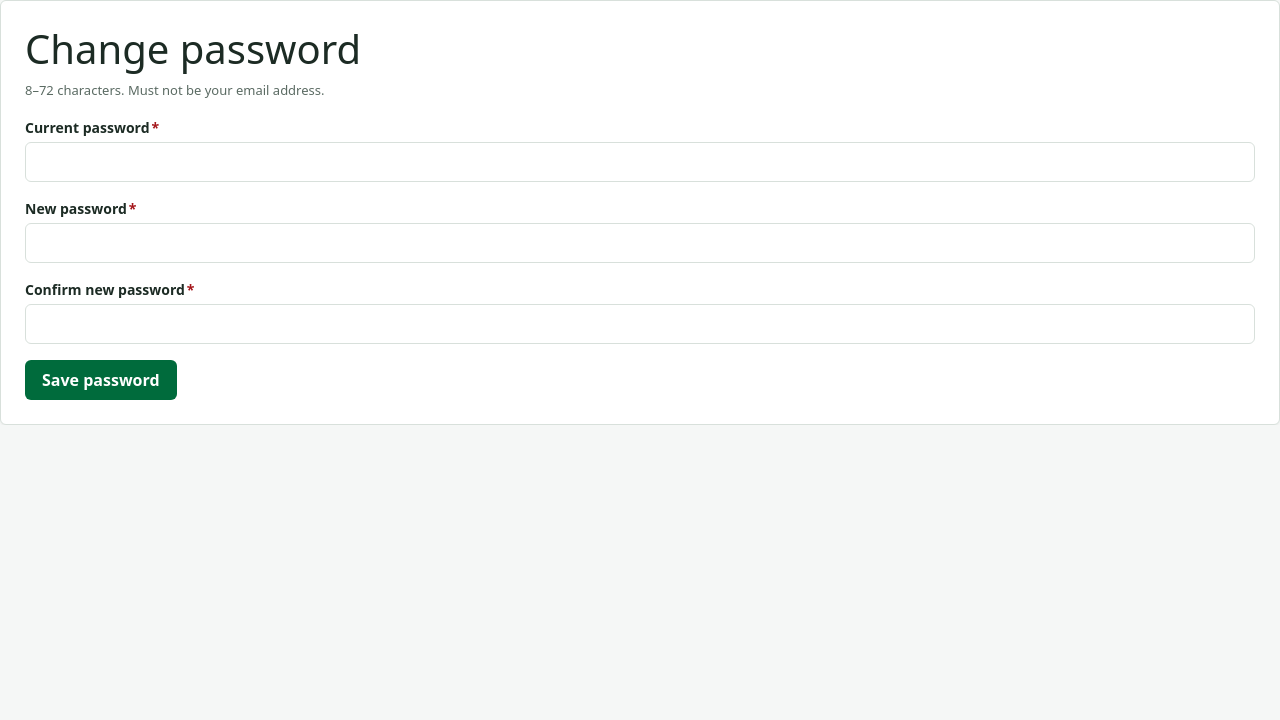
Test: UI-05 the rules, field by field › sends a valid change and confirms it
The width and height of the screenshot is (1280, 720).
In the password field labelled "Current password*": (640, 162) x1=25 y1=142 x2=1255 y2=182, type "Toktickit#2026"
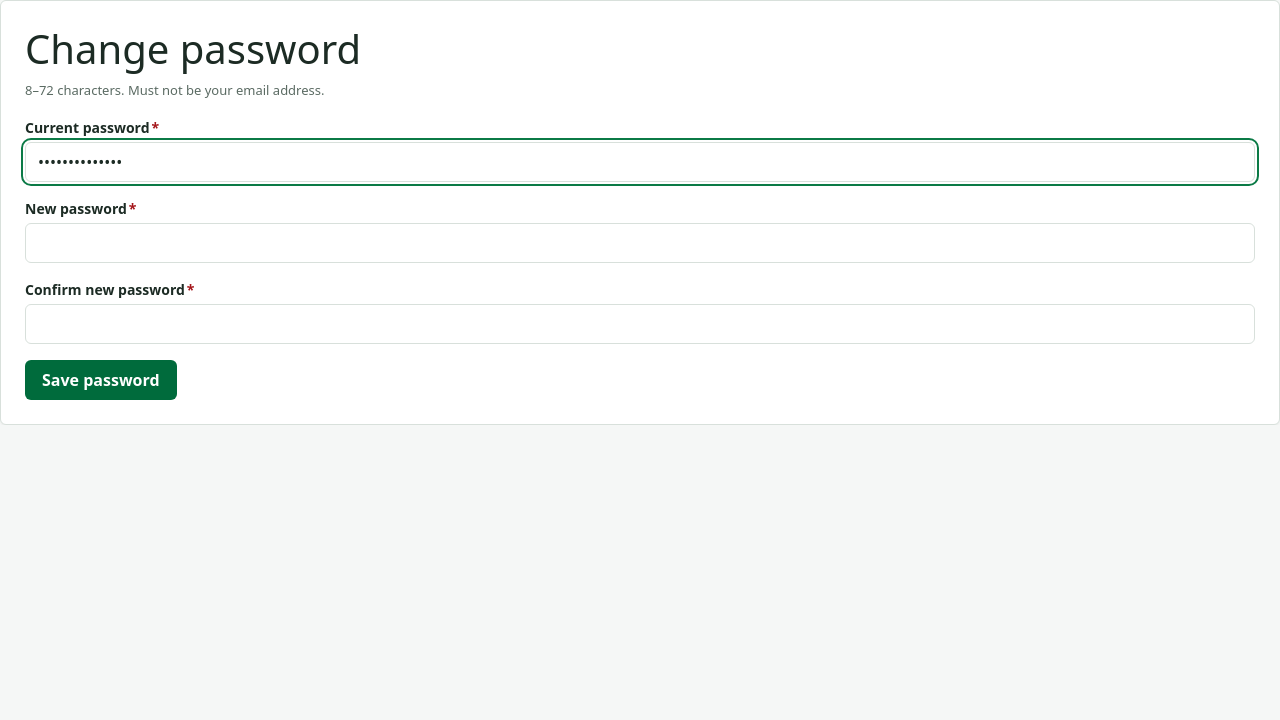
In the password field labelled "New password*": (640, 242) x1=25 y1=222 x2=1255 y2=262, type "Brand-new-horse-9"
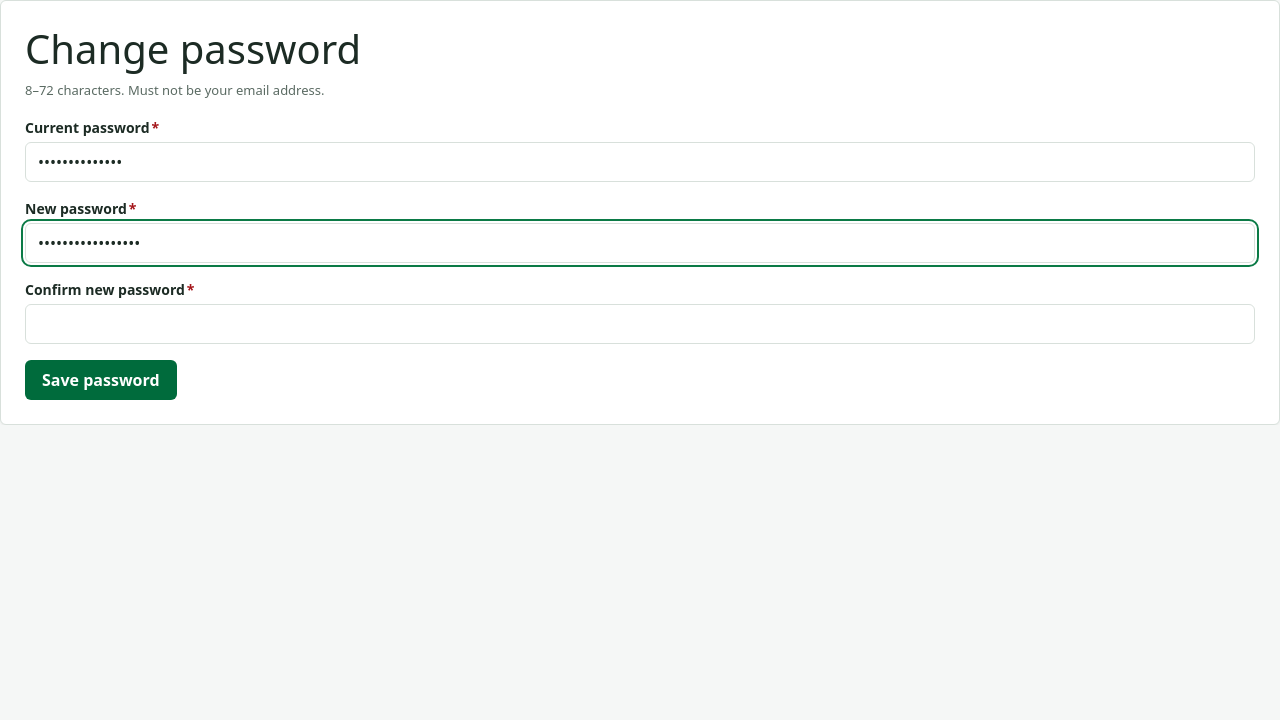
In the password field labelled "Confirm new password*": (640, 324) x1=25 y1=304 x2=1255 y2=344, type "Brand-new-horse-9"
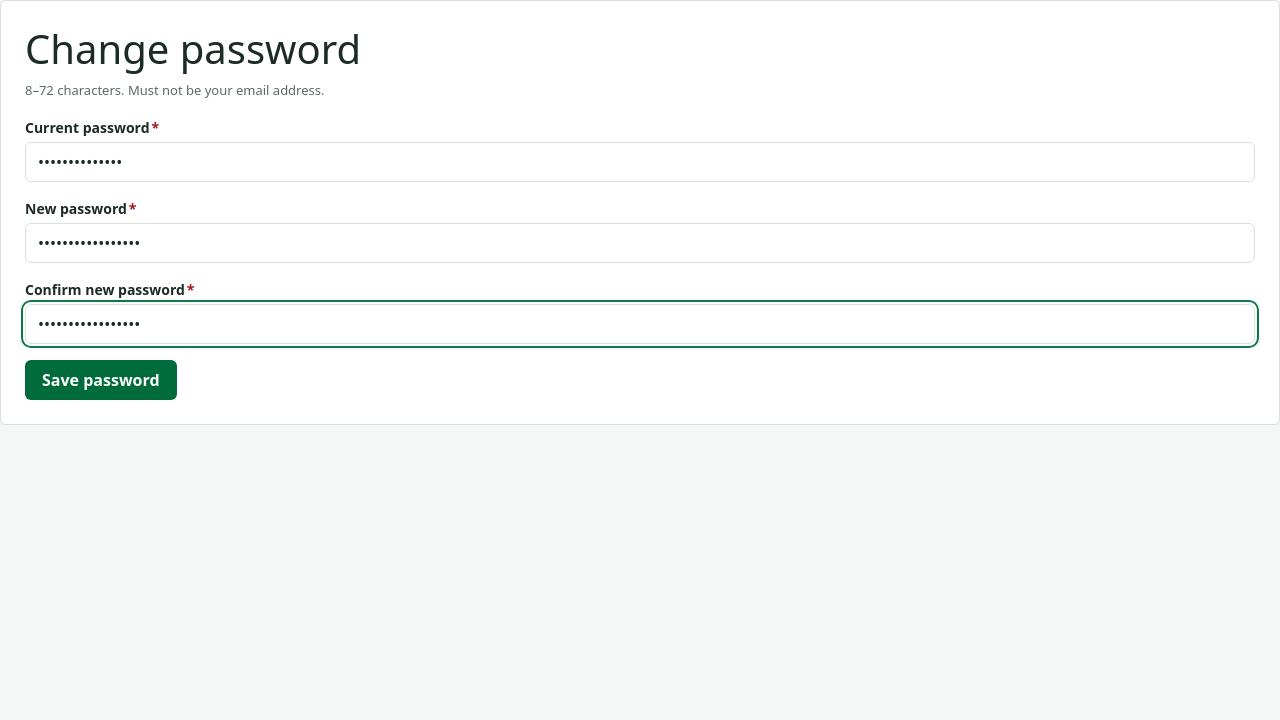
Click the button "Save password": (101, 380) x1=25 y1=360 x2=177 y2=400
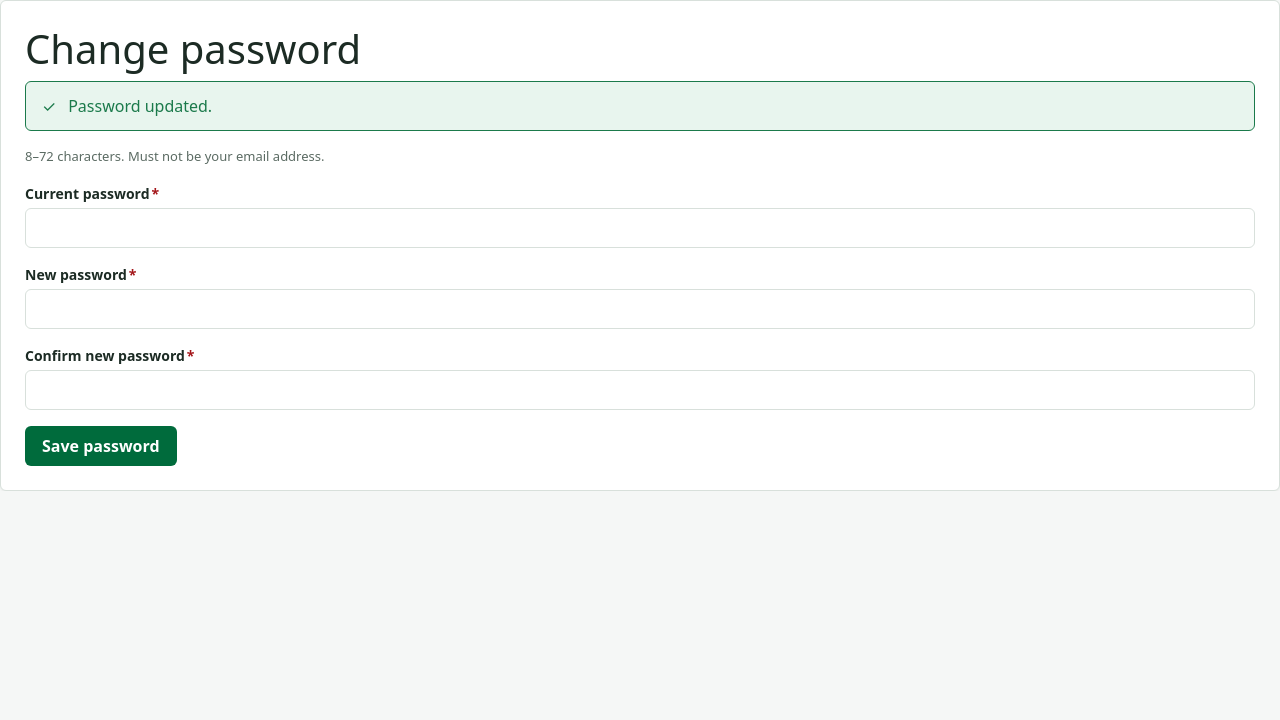
Result: the text "Password updated." is shown at x1=68 y1=94 x2=212 y2=118
